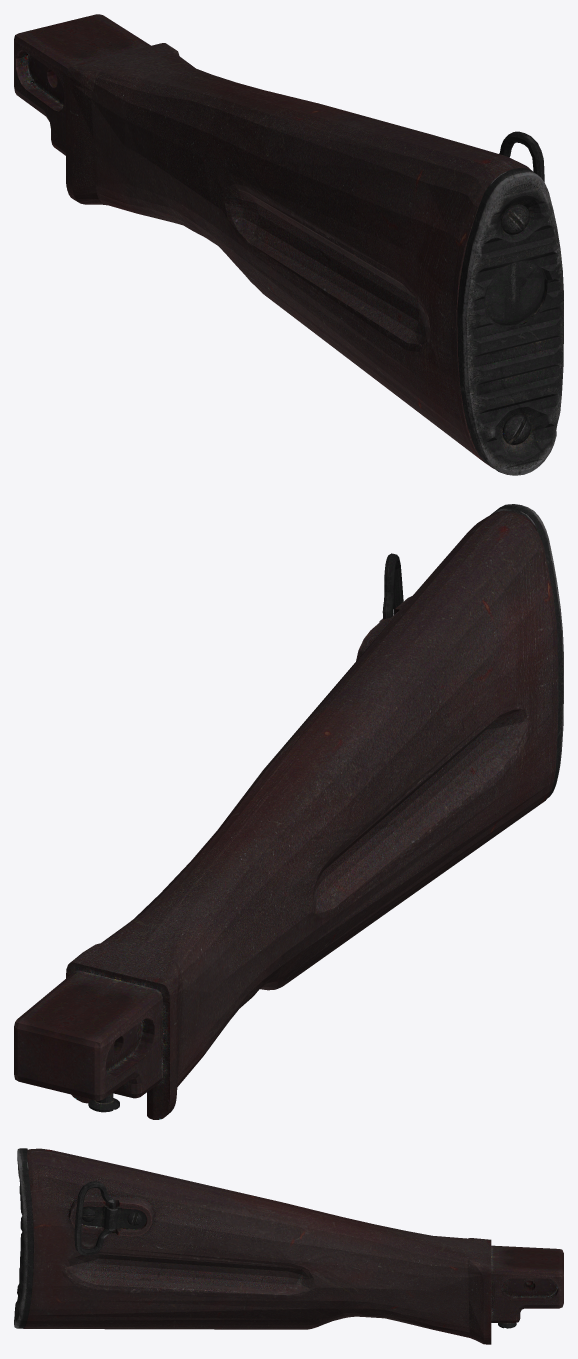
The picture shows the model from 3 angles, top to bottom: view 1: azimuth 30°, elevation 25°; view 2: azimuth 150°, elevation 25°; view 3: azimuth 270°, elevation 25°; orthographic projection. The views are drawn at different scales.
Parts seen in each view (by area): view 1: TW_5cbdb1b0ae9215000d50e105_PZ_Import; view 2: TW_5cbdb1b0ae9215000d50e105_PZ_Import; view 3: TW_5cbdb1b0ae9215000d50e105_PZ_Import.
Boxes of the visible parts, x1,y1,x2,y2 form: TW_5cbdb1b0ae9215000d50e105_PZ_Import: [14, 14, 563, 475]; TW_5cbdb1b0ae9215000d50e105_PZ_Import: [14, 504, 563, 1119]; TW_5cbdb1b0ae9215000d50e105_PZ_Import: [14, 1148, 563, 1344].
Bounding box in the file's own units: 0.0248 × 0.1568 × 0.0578.
Materials: 1 (1 with a texture image).
